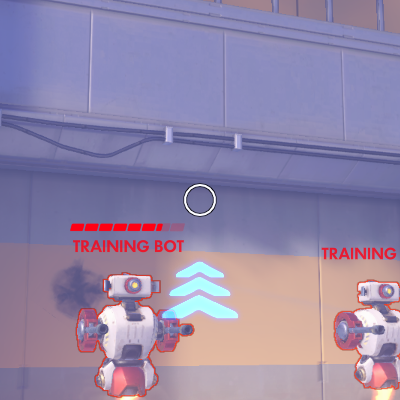hpbar: (69, 223, 185, 232)
